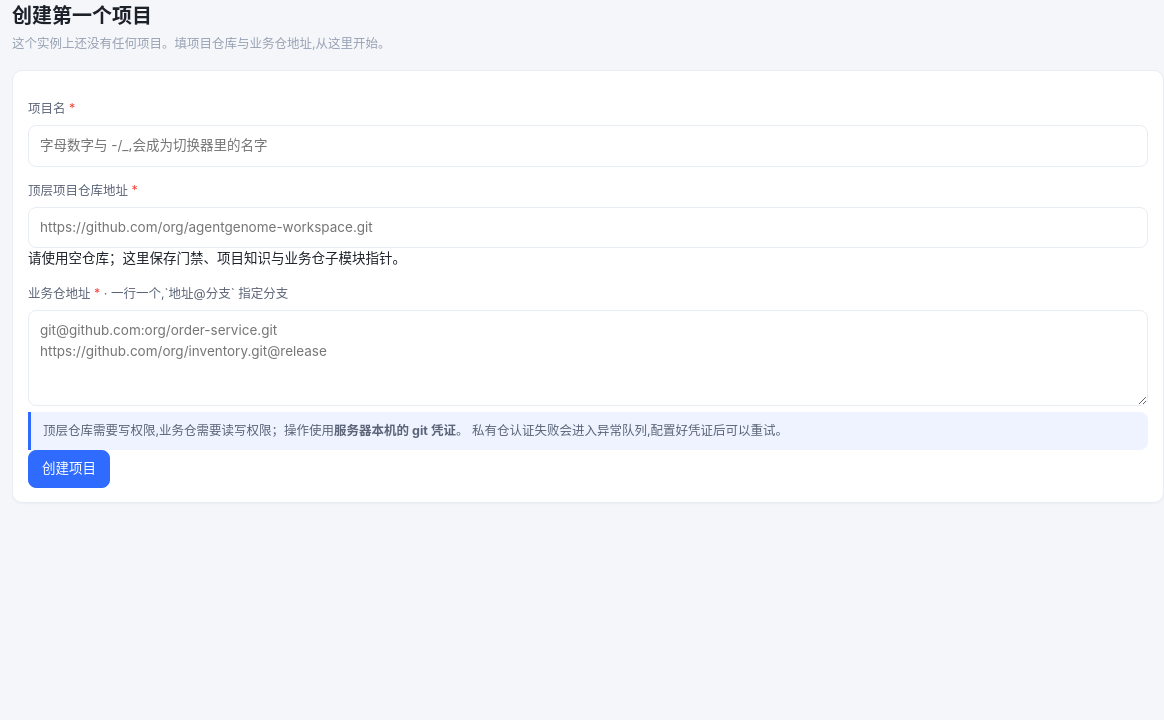
Scenario: ProjectSetup › requires a dedicated Git repository for the Workspace
This screenshot has width=1164, height=720.
In the field with placeholder "字母数字与 -/_,会成为切换器里的名字": (588, 146) [28,125,1148,167], type "shop"
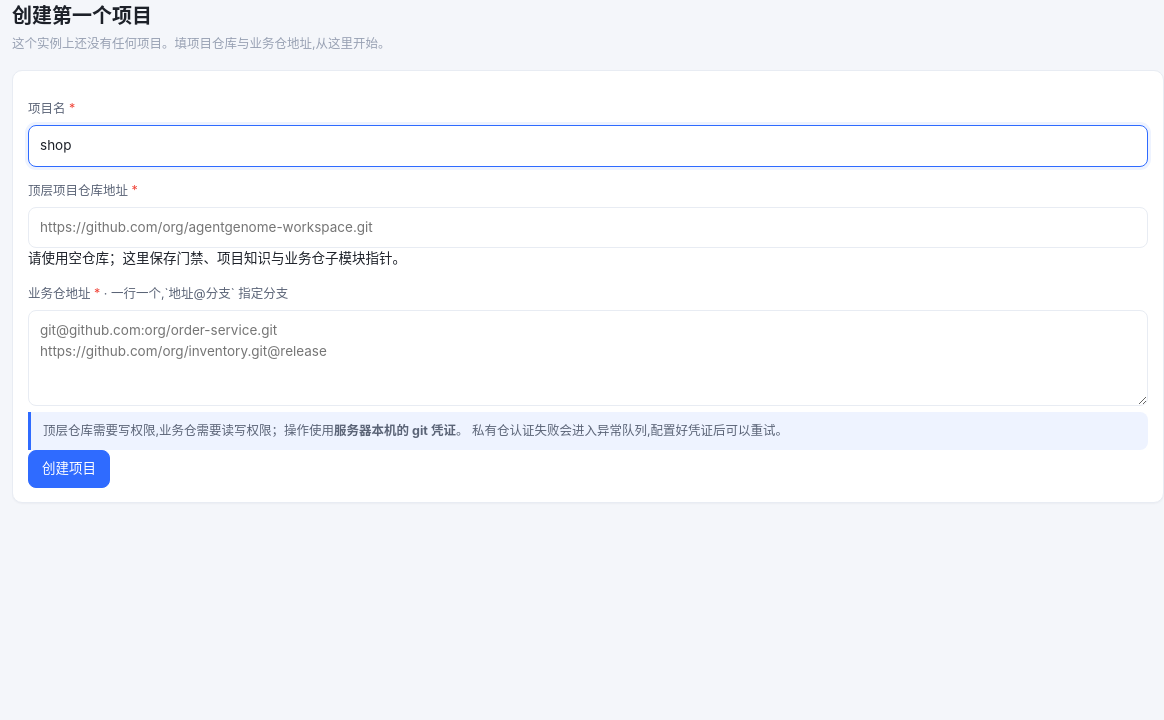
In the text box with placeholder "order-service": (588, 358) [28,310,1148,406], type "a.git"
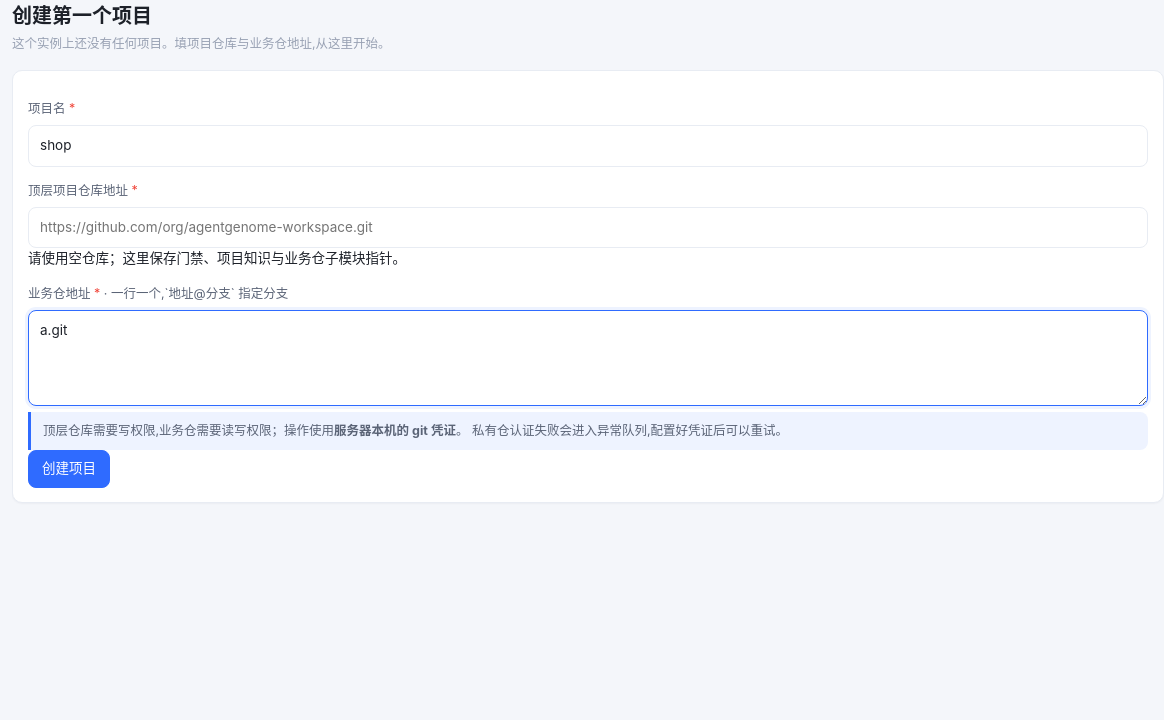
Click the button "创建项目": click(69, 469) [28,450,110,488]
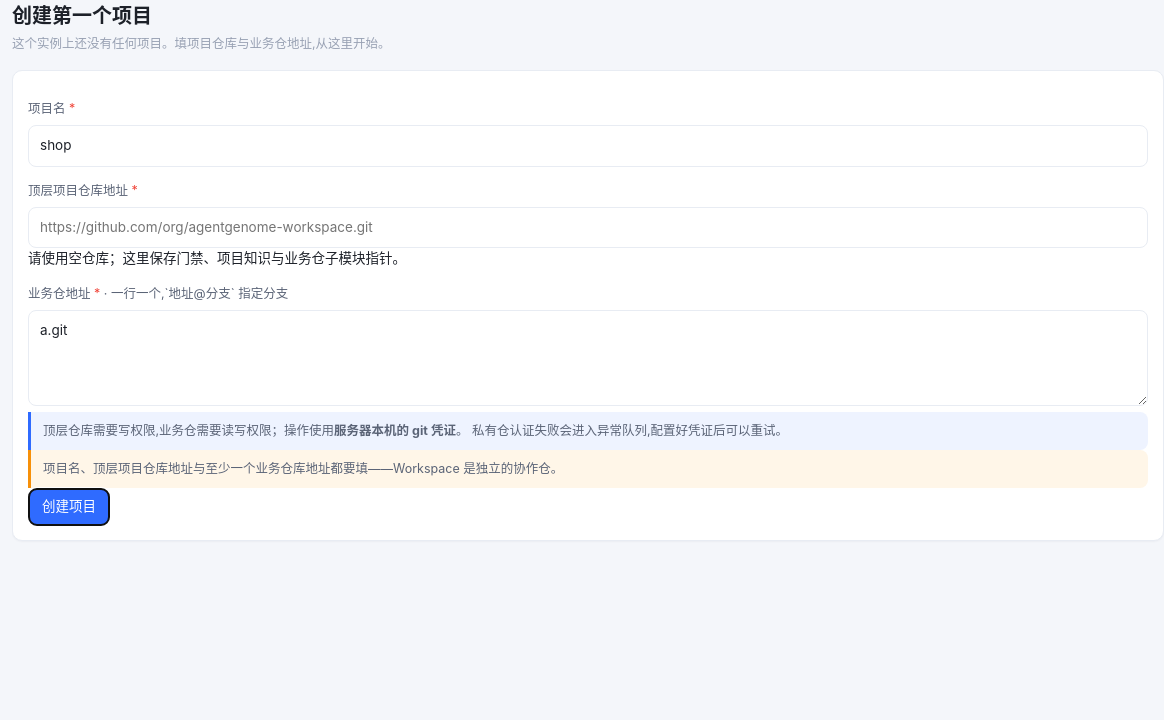
Check: the text "项目名、顶层项目仓库地址与至少一个业务仓库地址都要填——Workspace 是独立的协作仓。" is shown, box [28,450,1148,488]
